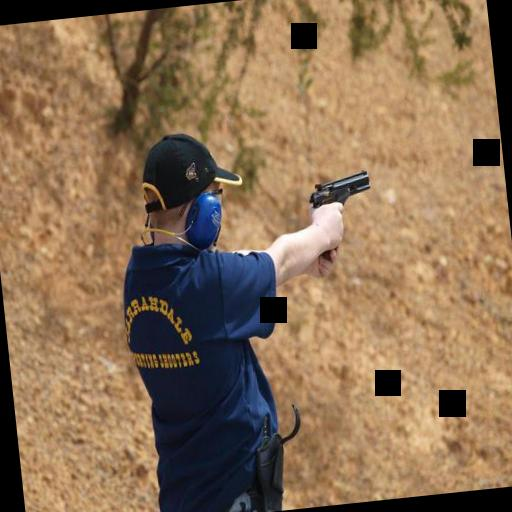Handgun: (306, 167, 374, 211)
